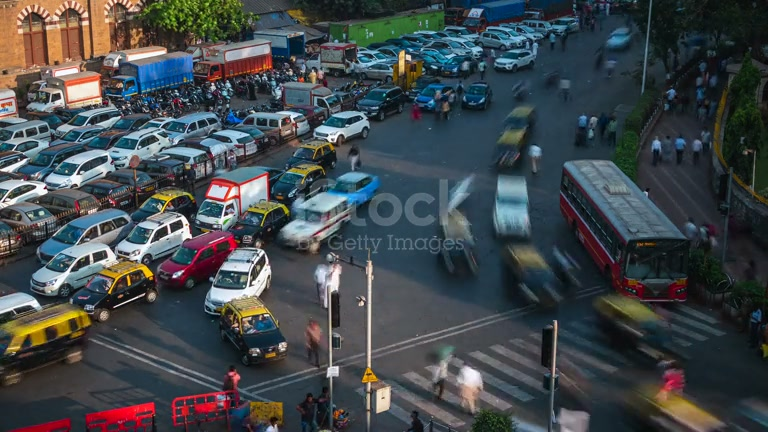bus: (557, 158, 691, 303)
car: (0, 300, 93, 387), (69, 259, 158, 323), (35, 207, 133, 265), (155, 228, 240, 290), (217, 296, 290, 367), (30, 242, 119, 299), (202, 247, 274, 316), (275, 192, 354, 253), (112, 210, 194, 266), (503, 240, 566, 310), (225, 198, 291, 247), (491, 170, 533, 242), (42, 149, 114, 191), (268, 162, 329, 206), (492, 112, 536, 170), (1, 202, 62, 243), (326, 170, 381, 207), (314, 110, 371, 144), (356, 86, 406, 121), (0, 287, 42, 325), (493, 48, 536, 73), (0, 220, 24, 262), (462, 82, 493, 111), (605, 26, 634, 51)
pedestrian: (674, 135, 686, 166), (651, 137, 662, 166)
truck: (195, 166, 271, 232)
